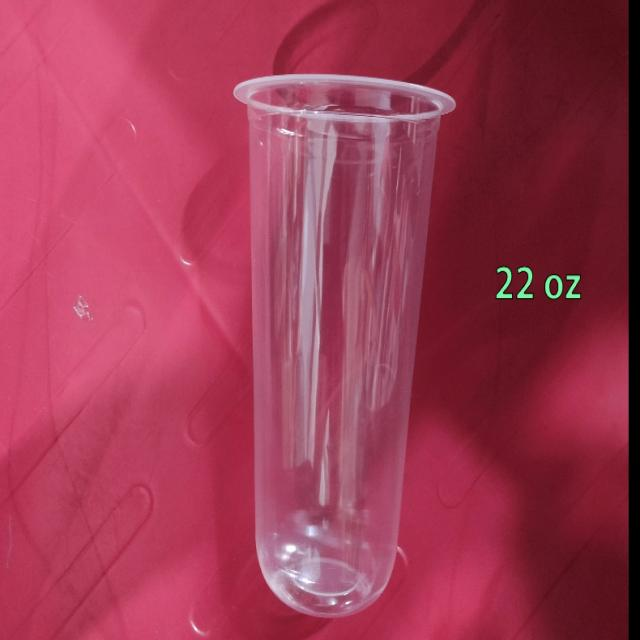GelasPlastik: (232, 72, 456, 617)
